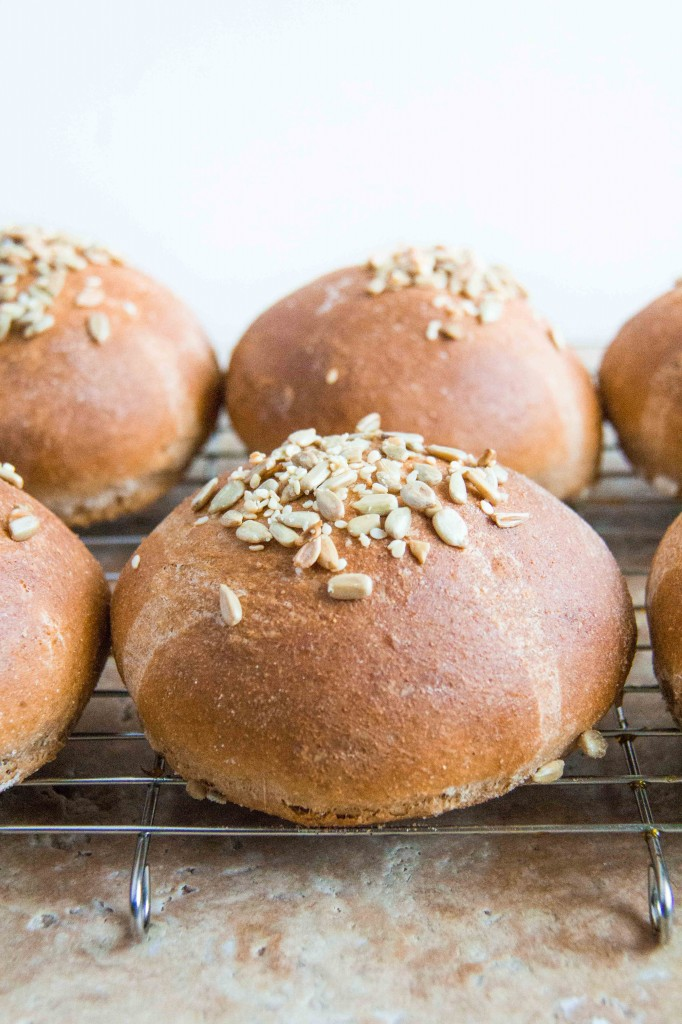hamburger_buns: (70, 434, 622, 846), (234, 219, 605, 500), (1, 260, 272, 498)
